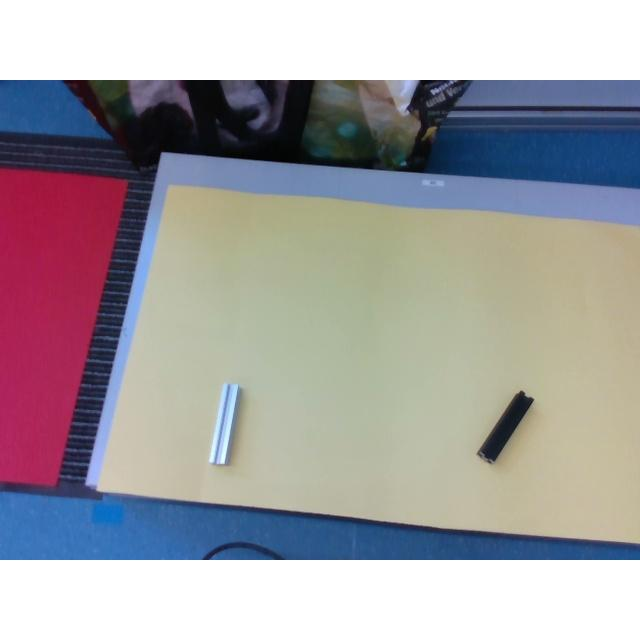F20_20_B: (476, 390, 532, 462)
F20_20_G: (208, 382, 238, 464)
